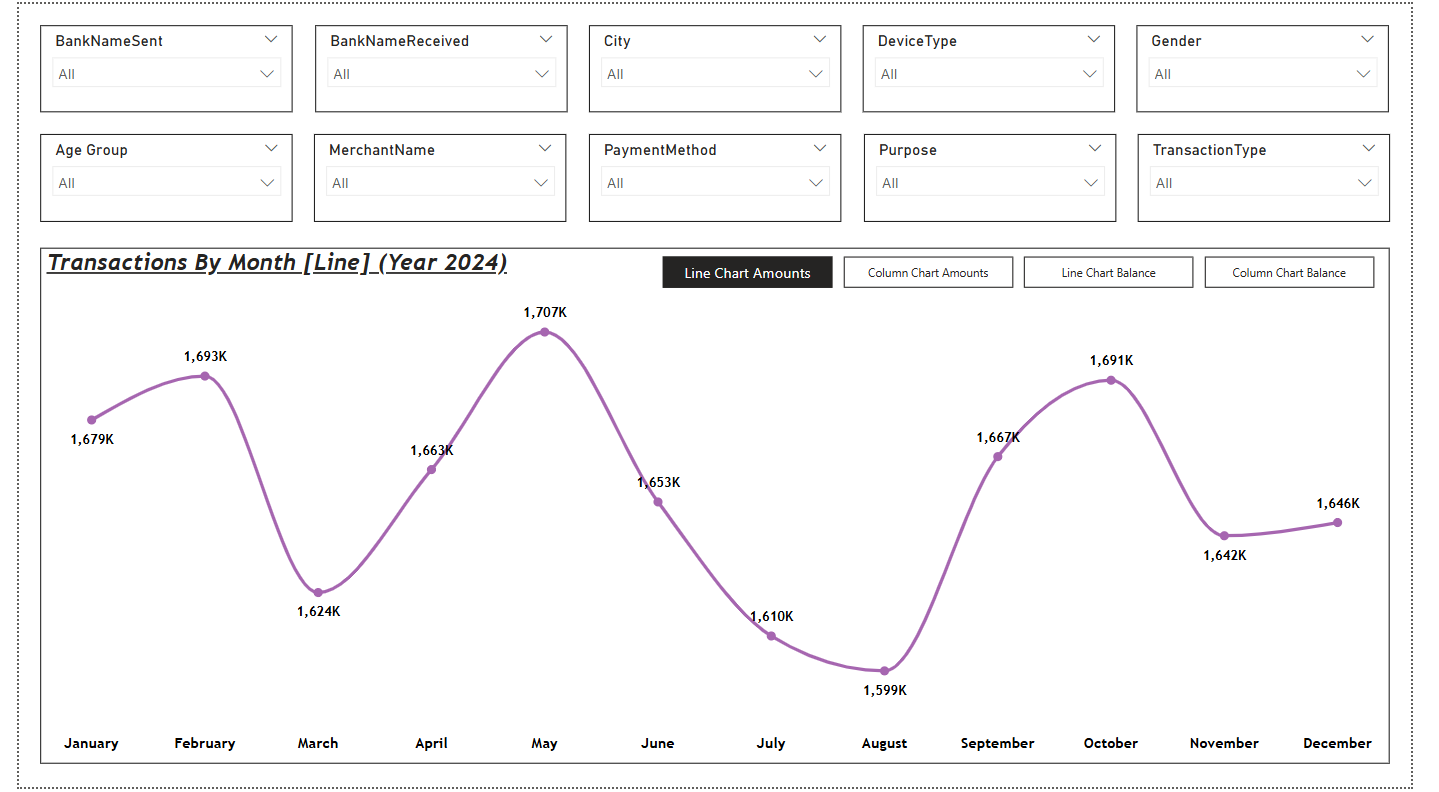

Layout of this report page (visuals, bound fields, positions):
{"tool":"powerbi","page":{"name":"Page 1","canvas":[1280,720],"ordinal":0},"visuals":[{"type":"slicer","fields":{"Values":["UPI Transactions.BankNameSent"]},"box":[20,20,232,80],"z":0},{"type":"slicer","fields":{"Values":["UPI Transactions.BankNameReceived"]},"box":[272,20,232,80],"z":1000},{"type":"slicer","fields":{"Values":["UPI Transactions.City"]},"box":[524.6,20,232,80],"z":2000},{"type":"slicer","fields":{"Values":["UPI Transactions.Gender"]},"box":[1028,20,232.3,80],"z":3000},{"type":"slicer","fields":{"Values":["UPI Transactions.DeviceType"]},"box":[776,20,232.3,80],"z":4000},{"type":"slicer","fields":{"Values":["UPI Transactions.Age Group"]},"box":[19.6,120,232.3,80.7],"z":5000},{"type":"slicer","fields":{"Values":["UPI Transactions.MerchantName"]},"box":[271.5,120,232.3,80.7],"z":6000},{"type":"slicer","fields":{"Values":["UPI Transactions.PaymentMethod"]},"box":[524.6,120,232.3,80.7],"z":7000},{"type":"slicer","fields":{"Values":["UPI Transactions.TransactionType"]},"box":[1028.4,120,232.3,80.7],"z":8000},{"type":"slicer","fields":{"Values":["UPI Transactions.Purpose"]},"box":[776.5,120,232.3,80.7],"z":9000},{"type":"lineChart","title":"Transactions By Month [Line] (Year 2024)","fields":{"Y":["Sum(UPI Transactions.Amount)"],"Category":["UPI Transactions.TransactionDate.Variation.Date Hierarchy.Month"]},"box":[19.6,223.8,1241.2,474.5],"z":10000},{"type":"bookmarkNavigator","box":[591.9,232.3,655.4,29.3],"z":14000}]}

Visuals, with their boxes in screenshot pixels (x1, y1, x2, y2), scaled from the page's 1280x720 canvas onto the 1439x792 screenshot:
slicer - UPI Transactions.BankNameSent: 22:22:283:110
slicer - UPI Transactions.BankNameReceived: 306:22:567:110
slicer - UPI Transactions.City: 590:22:851:110
slicer - UPI Transactions.Gender: 1156:22:1417:110
slicer - UPI Transactions.DeviceType: 872:22:1134:110
slicer - UPI Transactions.Age Group: 22:132:283:221
slicer - UPI Transactions.MerchantName: 305:132:566:221
slicer - UPI Transactions.PaymentMethod: 590:132:851:221
slicer - UPI Transactions.TransactionType: 1156:132:1417:221
slicer - UPI Transactions.Purpose: 873:132:1134:221
"Transactions By Month [Line] (Year 2024)" lineChart: 22:246:1417:768
bookmarkNavigator: 665:256:1402:288
